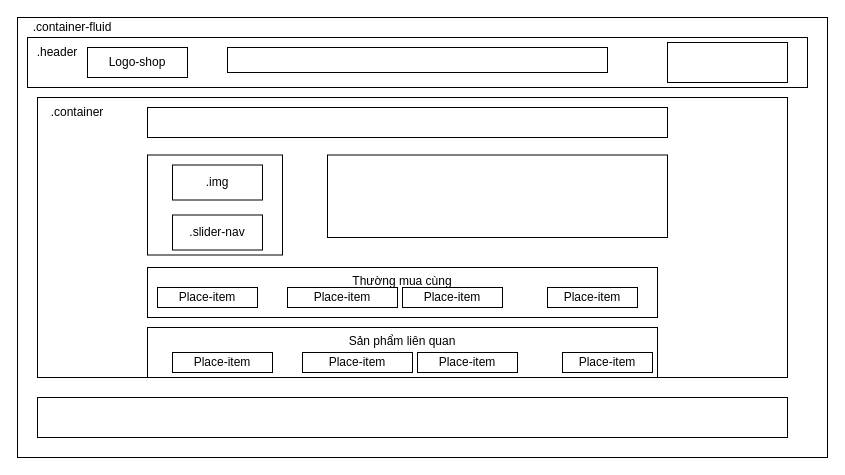
Image size: 845x475. Some labels were removed from this diagram. The box of each missing label's shape, as (x1, y1, x2, y2) in pixels:
Footter: (36, 396, 788, 438)
h1.Name product Contents .img(n): (326, 154, 668, 238)
Link-nav: (226, 46, 608, 72)
link-page: (146, 106, 668, 138)
Sign in & Sign up Seach icon: (666, 42, 788, 82)
